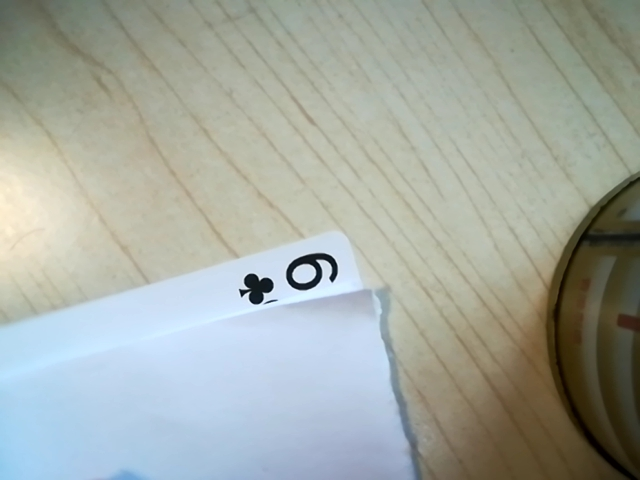mh 6: (228, 245, 356, 312)
